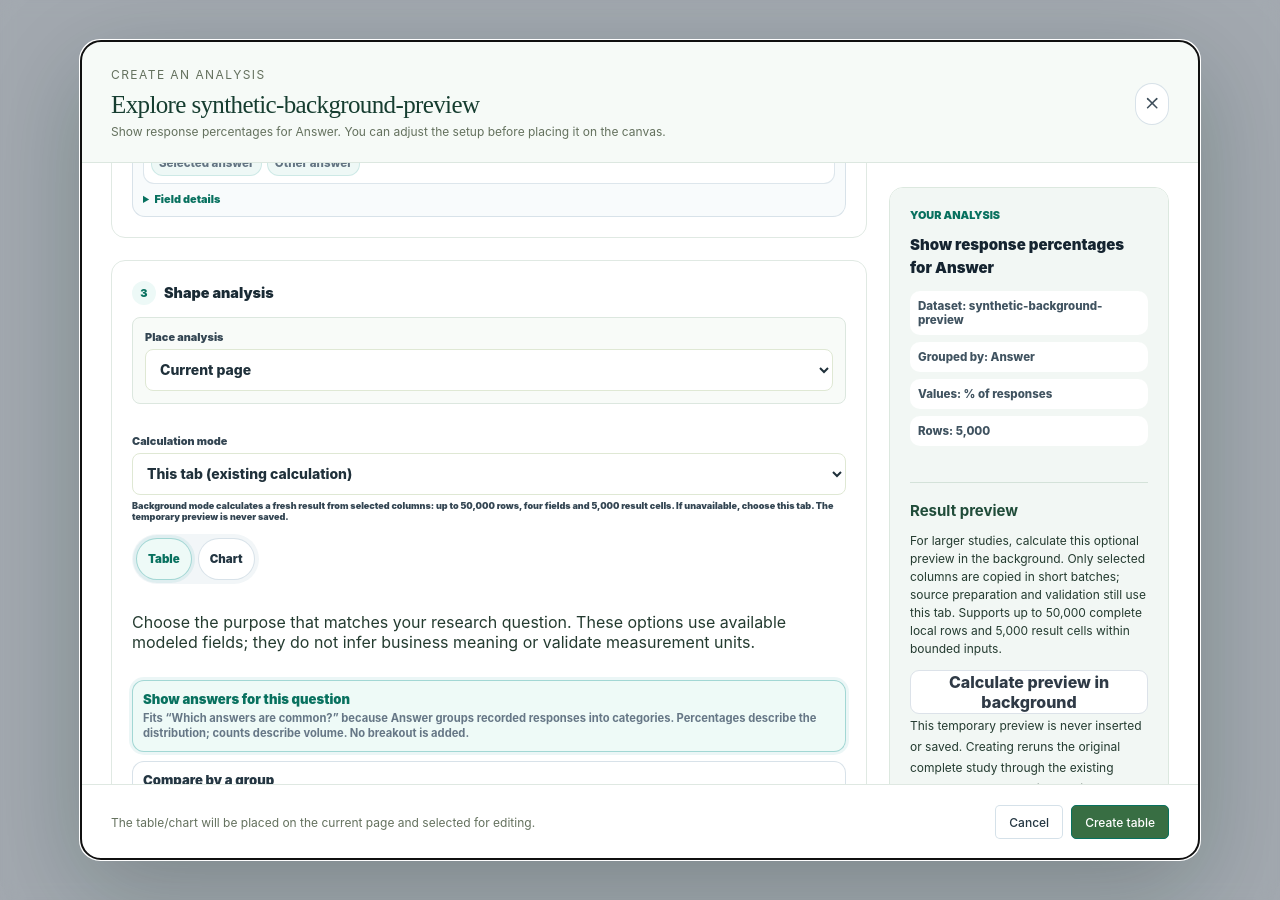
settles unavailable Worker errors without closing or changing the original path
(page scrolled)
Select "Background worker with cancel" in the 2nd dropdown at (489, 474), box [132, 453, 846, 495]
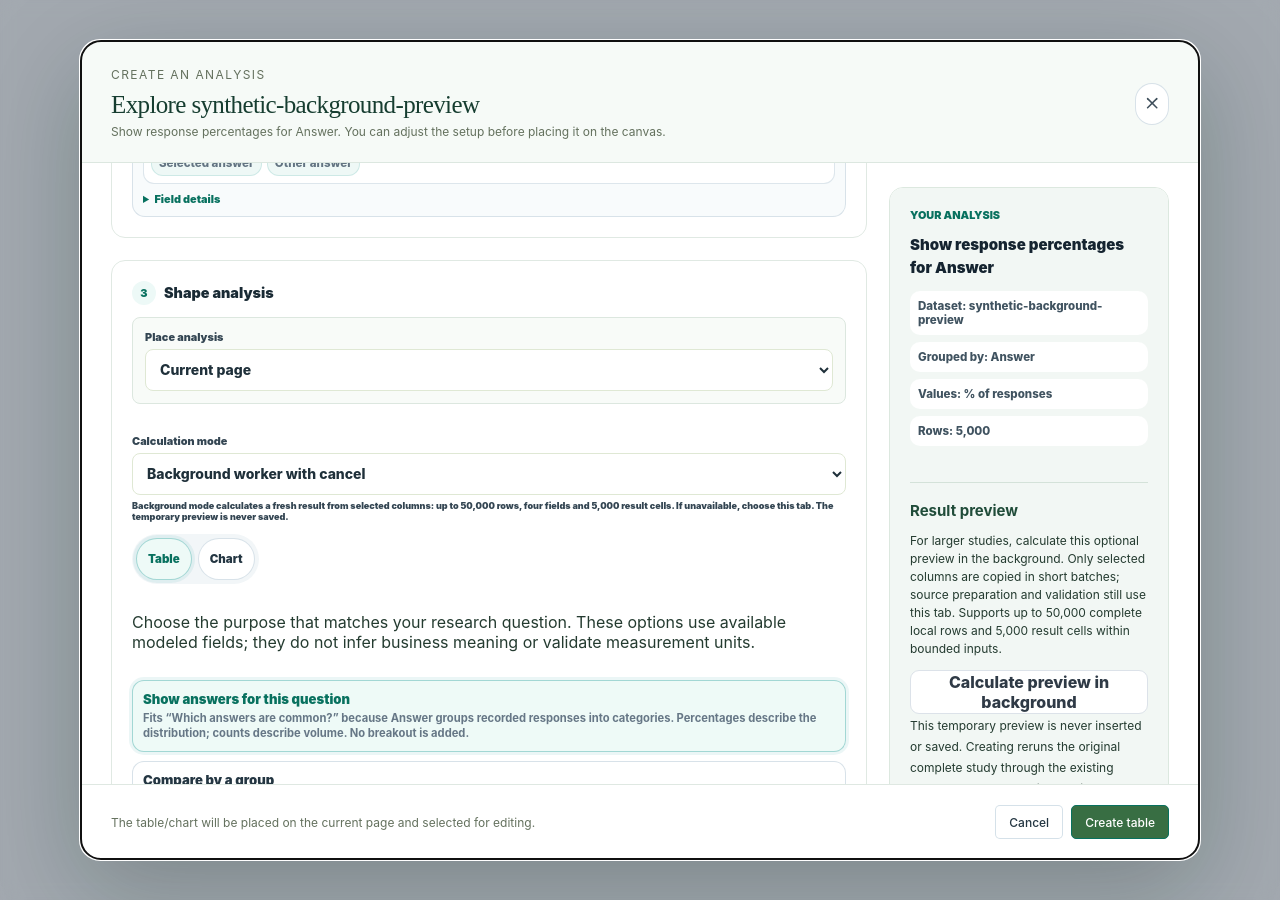
Click the button "Create table".
click(1120, 822)  # box [1071, 805, 1169, 839]
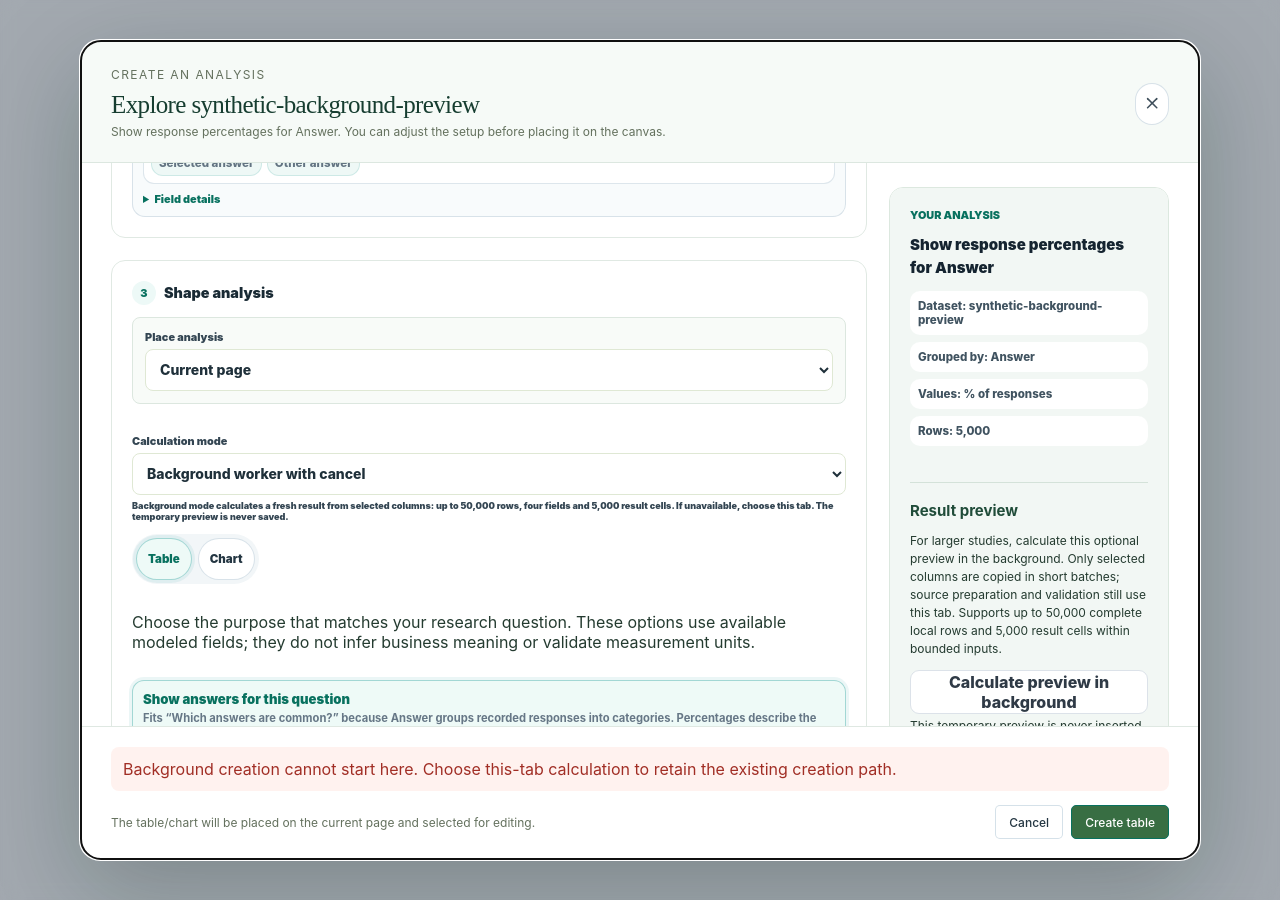
expect the text "Choose this-tab calculation" is shown: met, box [123, 759, 897, 779]
